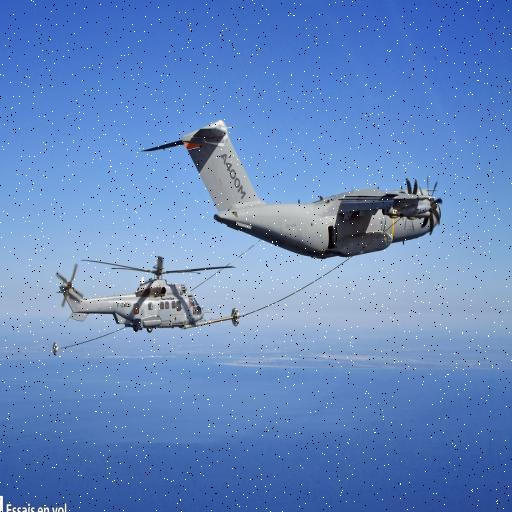helicopter: (50, 251, 244, 339)
